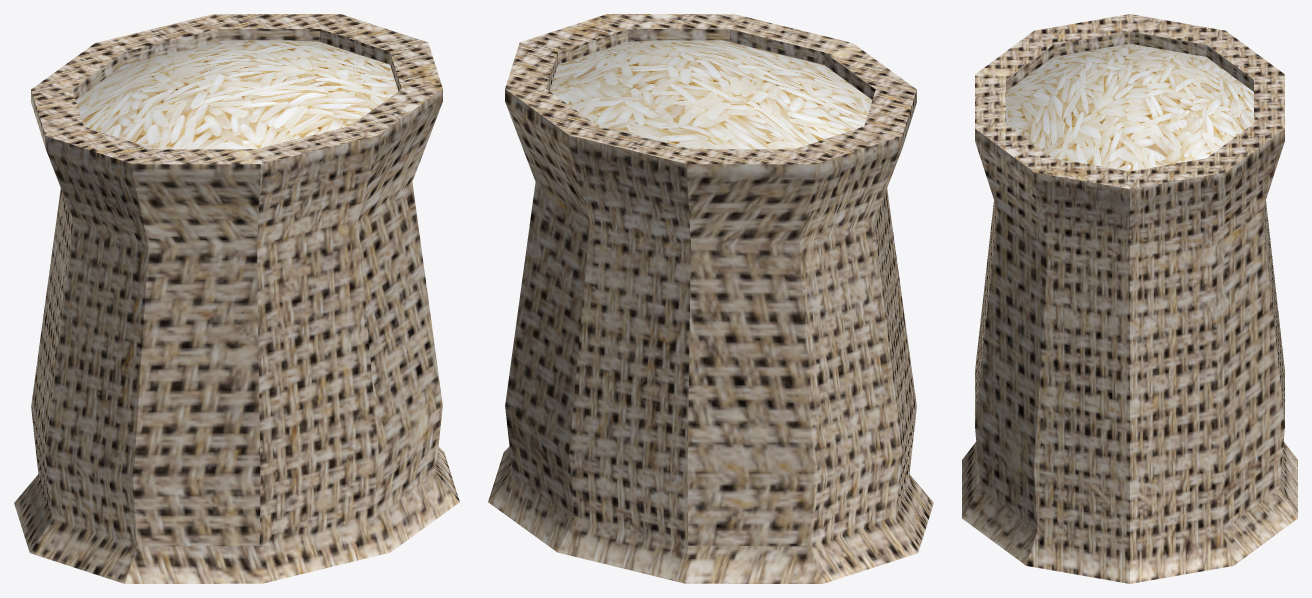
The model's file is SackofRice2.fbx.
3 renders of one model, left to right at view 1: azimuth 30°, elevation 25°; view 2: azimuth 150°, elevation 25°; view 3: azimuth 270°, elevation 25°, orthographic. The views are drawn at different scales.
Visible parts, largest first — view 1: pCylinder22; view 2: pCylinder22; view 3: pCylinder22.
Part boxes in pixels (x1,y1,x2,y2): pCylinder22: (14, 14, 459, 583); pCylinder22: (488, 14, 933, 583); pCylinder22: (962, 14, 1297, 583).
Bounding box in the file's own units: 1.23 × 1.25 × 0.9196.
